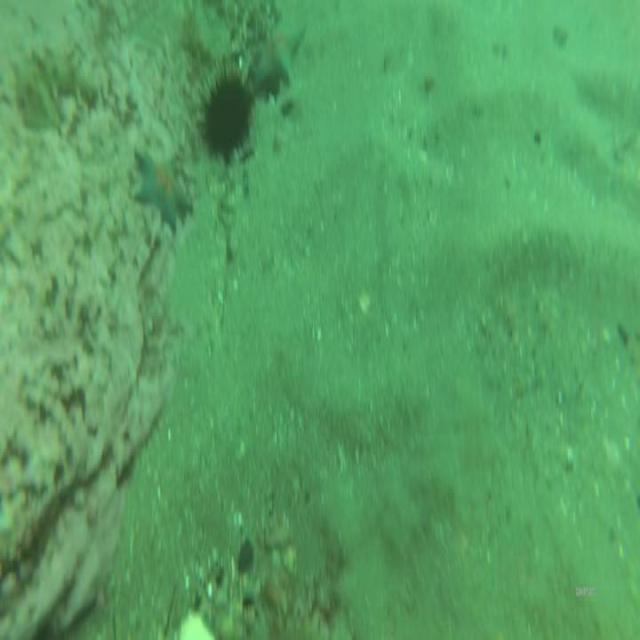echinus: (199, 68, 256, 166)
holothurian: (7, 44, 101, 131)
starfish: (129, 137, 194, 235), (248, 18, 307, 88)
